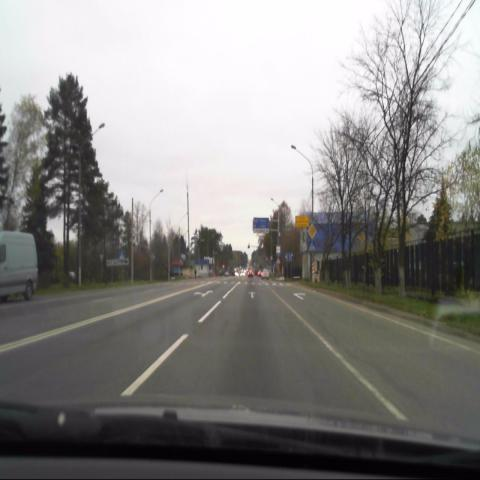2_1: (307, 224, 317, 239)
5_19_1: (308, 240, 316, 251)
